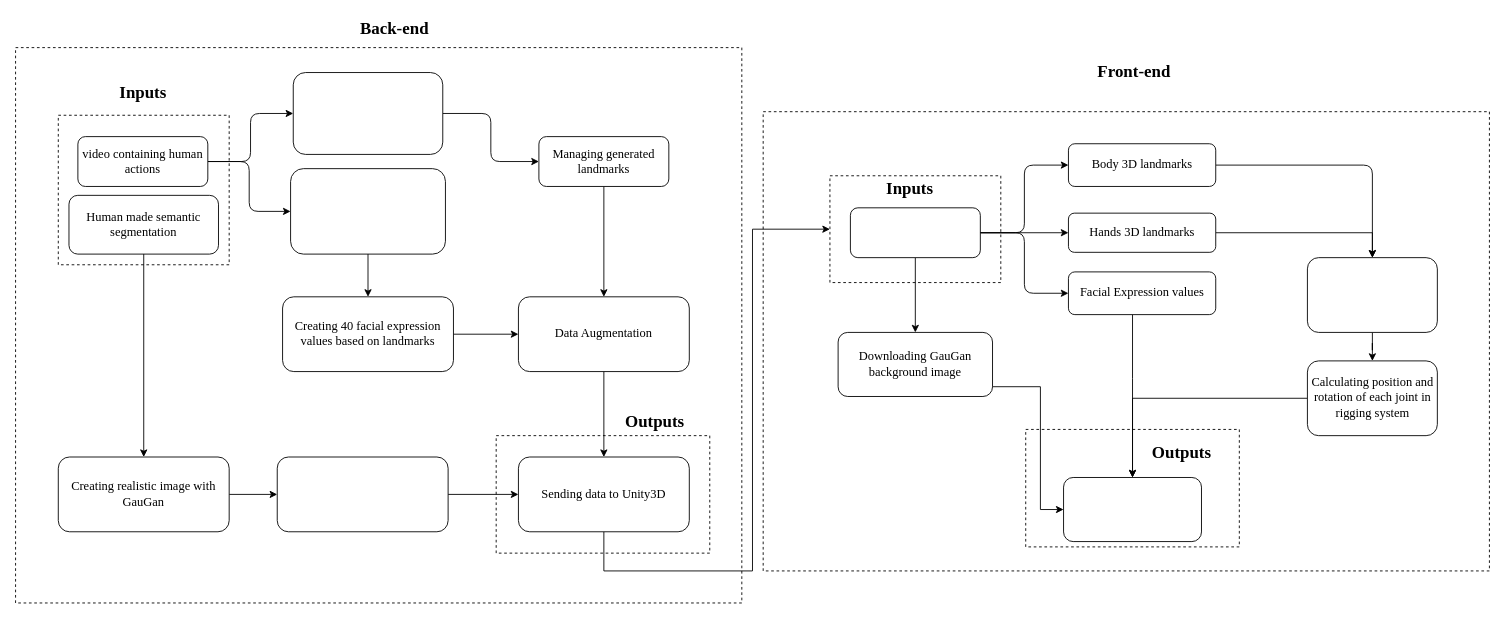
This 1505x619 diagram has some shape labels left out. The shapes that lost their labels are listed below. From the top down, each one's box as (x1, y1, x2, y2) in pixels, then its label:
(292, 72, 443, 154): body pose estimation & generate 3D landmarks of body
(290, 168, 445, 254): Creating 3D facial landmarks
(850, 207, 980, 258): Received data from server
(1307, 257, 1437, 332): Signal filters (Kalman filter & low pass filter)
(276, 456, 448, 532): Managing generated image
(1063, 477, 1202, 542): Rendering final animation on 3D character
